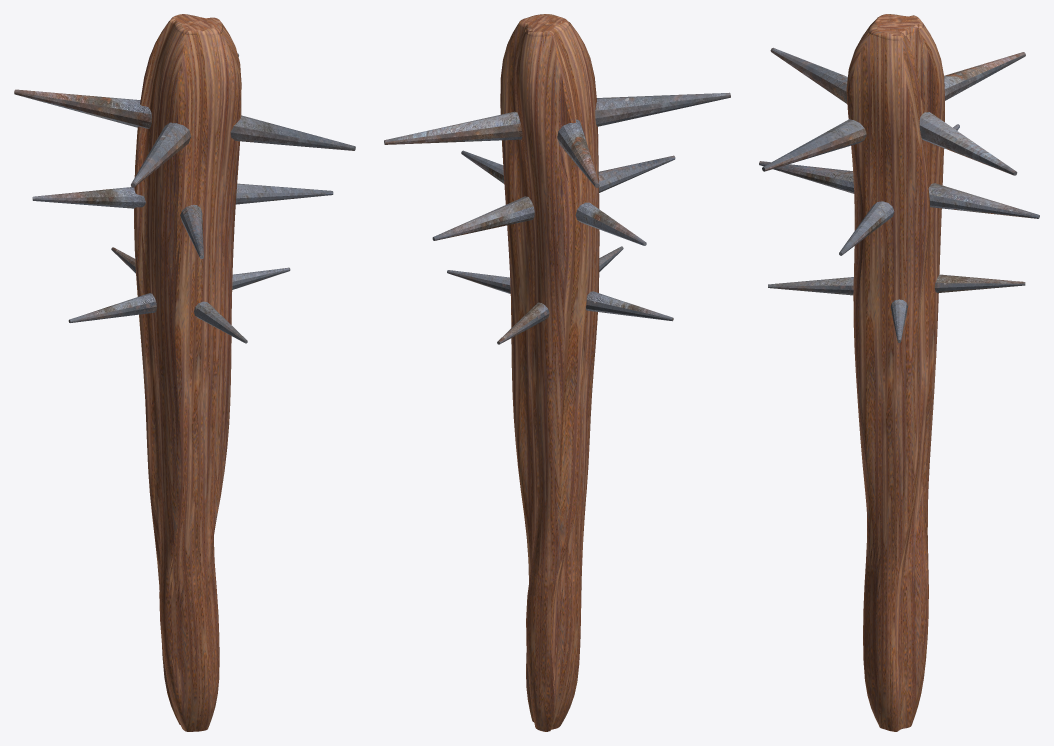
The model's file is Basic-Club.FBX.
3 renders of one model, left to right at view 1: azimuth 30°, elevation 25°; view 2: azimuth 150°, elevation 25°; view 3: azimuth 270°, elevation 25°, orthographic.
Visible parts, largest first — view 1: CLUB, SPIKES, 0; view 2: CLUB, SPIKES, 0; view 3: CLUB, SPIKES, 0.
Part boxes in pixels (bbox=[...]): CLUB: bbox=[134, 20, 241, 731]; SPIKES: bbox=[14, 53, 355, 343]; 0: bbox=[169, 14, 222, 35]; CLUB: bbox=[500, 22, 599, 731]; SPIKES: bbox=[384, 92, 730, 344]; 0: bbox=[518, 14, 569, 36]; CLUB: bbox=[846, 20, 944, 731]; SPIKES: bbox=[759, 47, 1039, 342]; 0: bbox=[869, 14, 923, 40].
Bounding box in the file's own units: 2.56 × 7.1 × 2.56.
